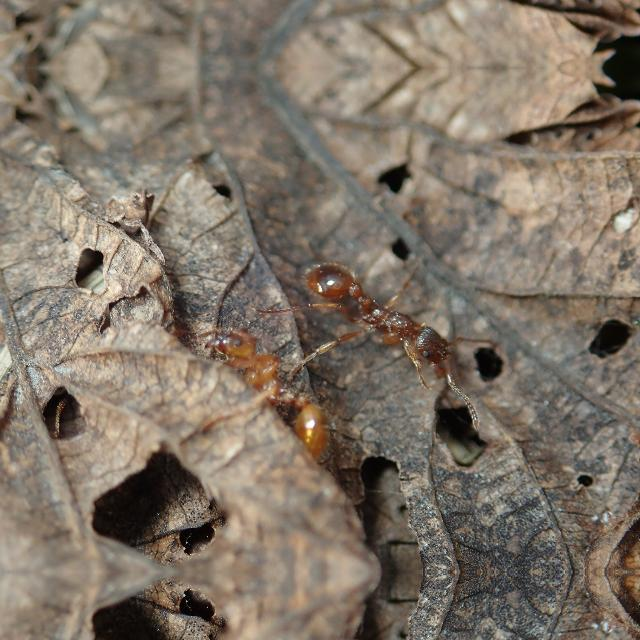Myrmica: (183, 312, 359, 462), (293, 245, 477, 372)
